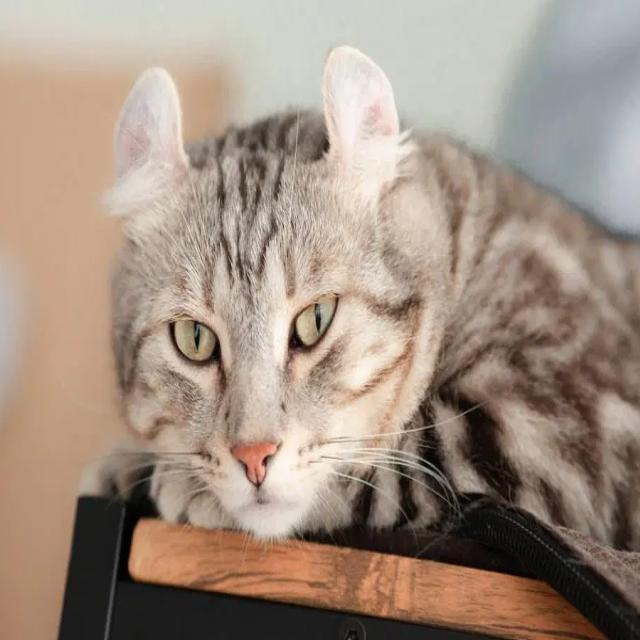American Curl: (73, 38, 640, 566)
